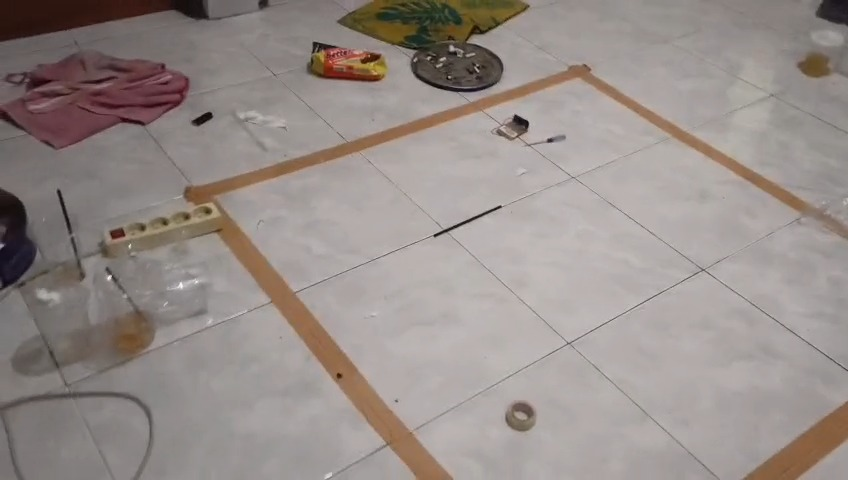floor marking: (184, 65, 847, 479), (745, 401, 847, 479)
